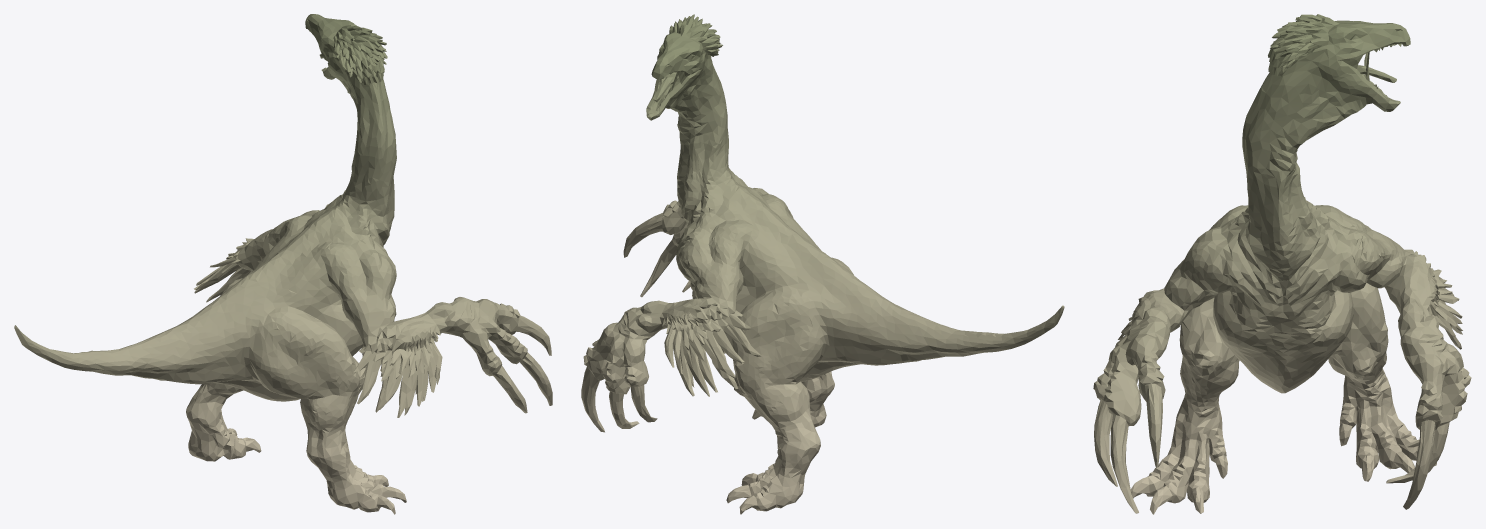
The model's file is therizinosaurus.glb.
3 views of the same model, side by side, from view 1: azimuth 30°, elevation 25°; view 2: azimuth 150°, elevation 25°; view 3: azimuth 270°, elevation 25° (orthographic). The views are drawn at different scales.
Visible parts, largest first — view 1: world; view 2: world; view 3: world.
Boxes of the visible parts, left/top/right/bottom form: world: left=14, top=14, right=552, bottom=514; world: left=581, top=14, right=1064, bottom=514; world: left=1093, top=14, right=1471, bottom=514.
Bounding box in the file's own units: 10 × 8.41 × 5.62.
